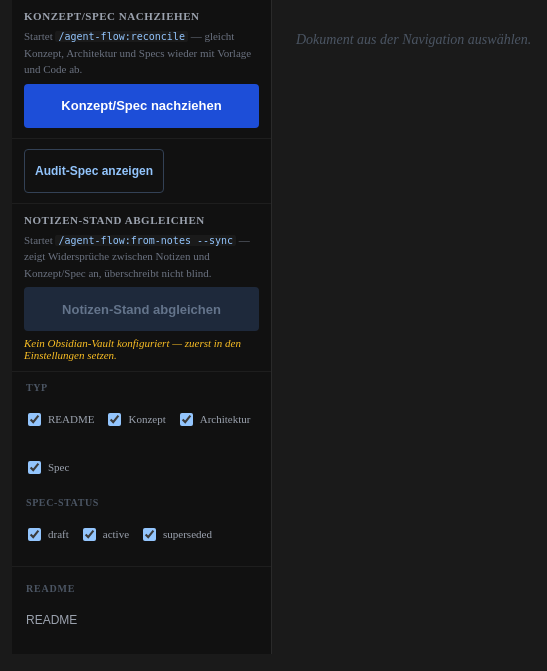
Scenario: SpecView — audit-spec-main-pane AC3: Umschalten statt Doppelanzeige › Klick auf „Audit-Spec anzeigen" ersetzt ein bereits gewähltes Navigations-Dokument in der Hauptfläche
Click the button titled "README.md".
click(142, 620)  # box 12,598 -> 271,642
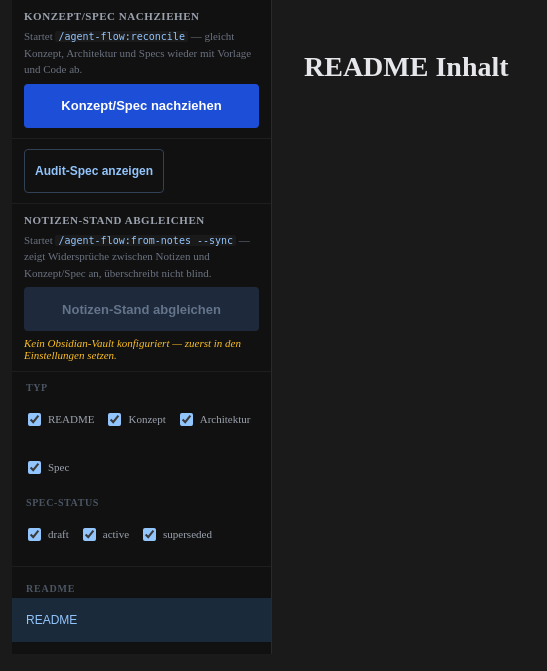
Expected: the heading "README Inhalt" is shown, 304,51 -> 509,82
Klick auf Audit-Spec-Button → Logbuch ersetzt das Dokument.
Click the button with test id "audit-spec-btn".
click(94, 170)  # box 24,148 -> 164,192
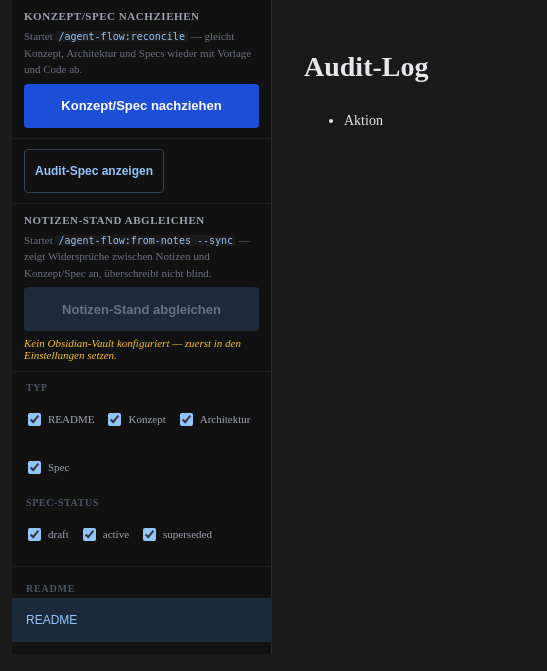
Expected: the message with test id "specview-content" does not show "Dokument aus der Navigation auswählen"
Expected: the element with test id "audit-spec-content" is shown, 304,51 -> 428,128
